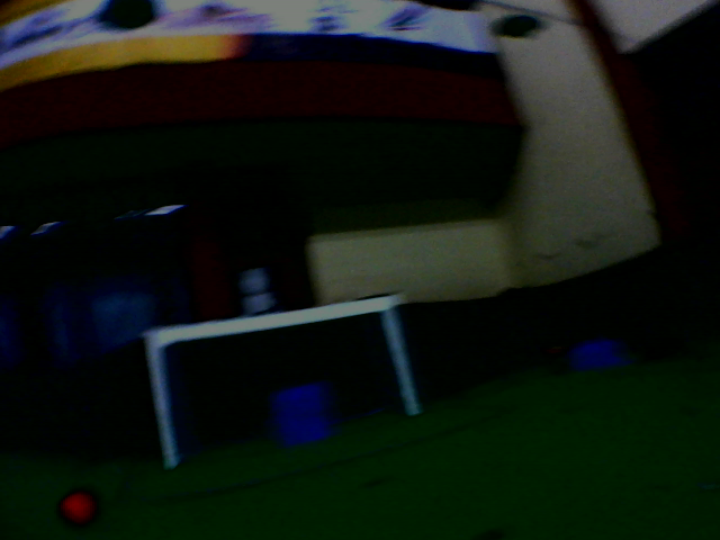bola: (52, 483, 102, 530)
